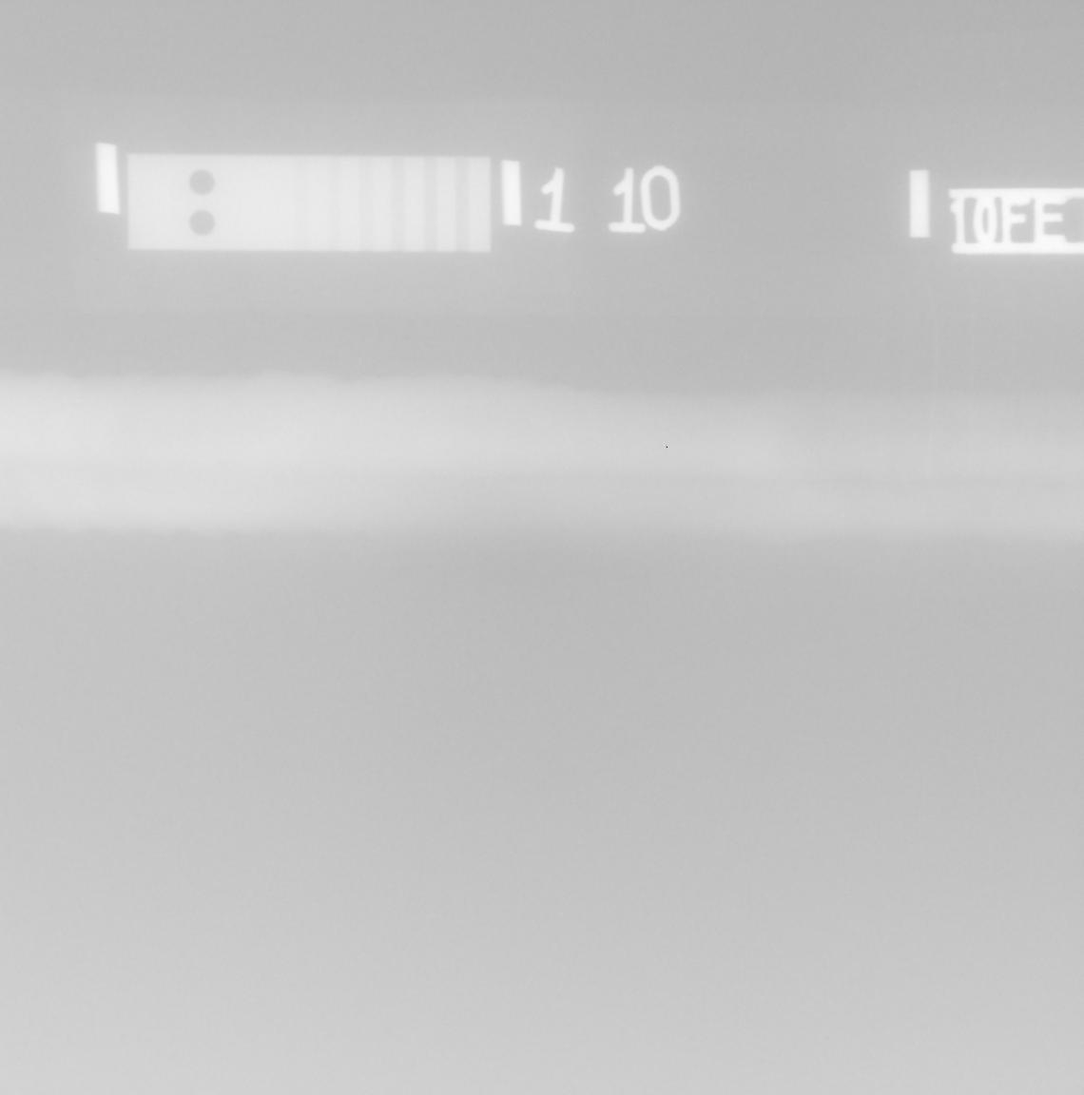Pore/Porosity: (746, 420, 753, 428)
Reference Standard 2: (128, 153, 491, 253)
